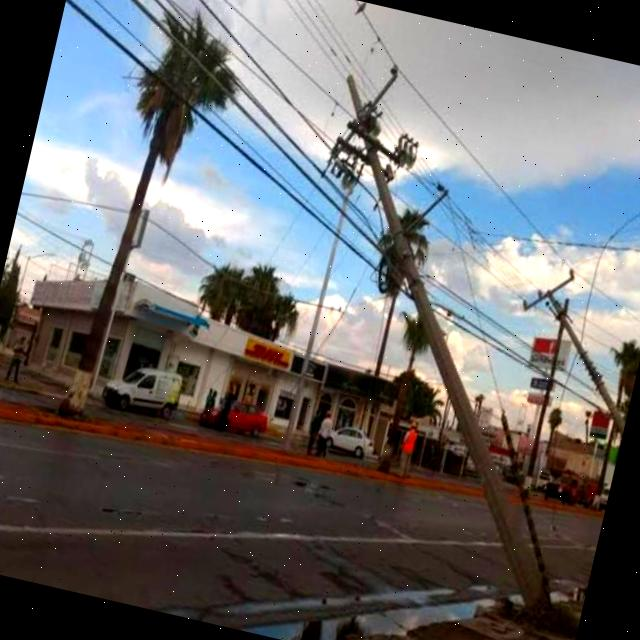Broken Pole: (320, 63, 546, 605)
